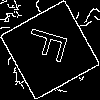F: (25, 25, 77, 67)
